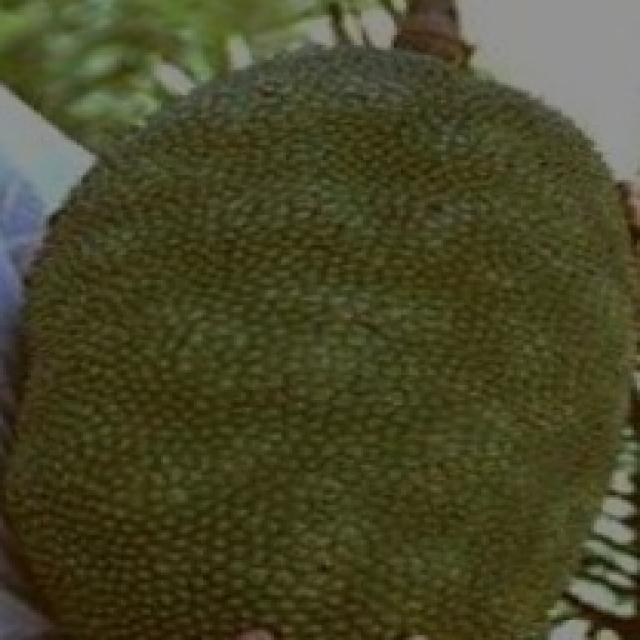Fruit: (0, 282, 385, 640), (252, 3, 640, 315)
